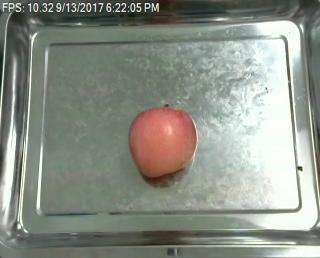apple: (129, 103, 198, 182)
